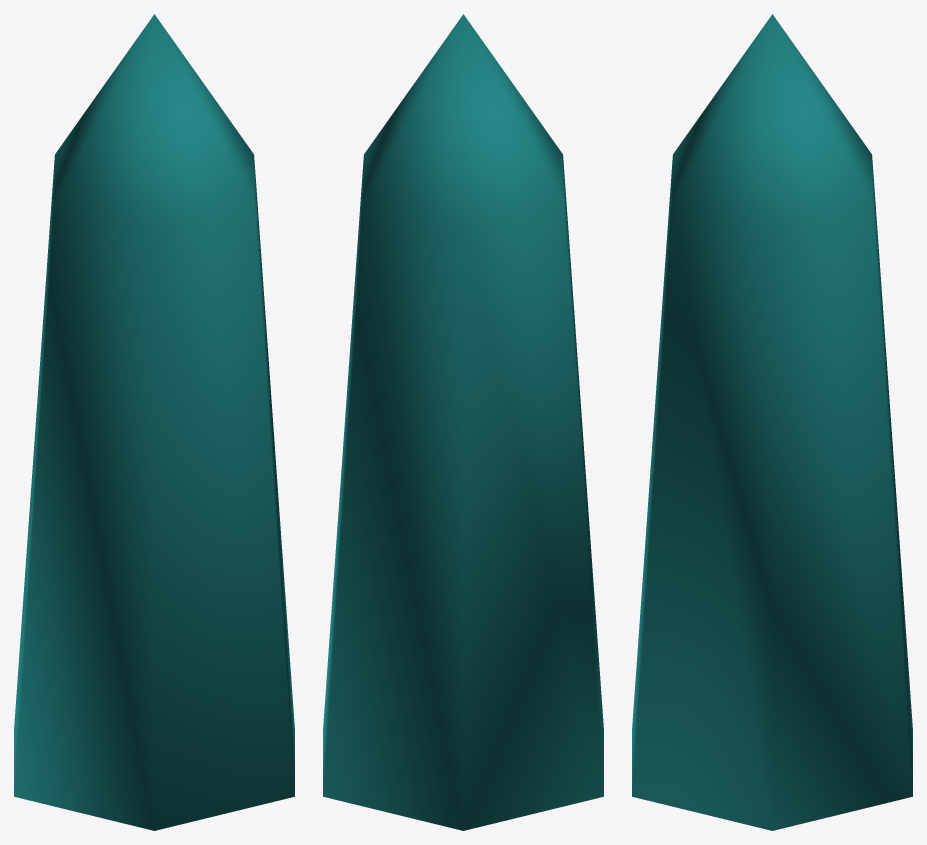
Rendered from chess_piece_king_collider.fbx.
3 views of the same model, side by side, from view 1: azimuth 30°, elevation 25°; view 2: azimuth 150°, elevation 25°; view 3: azimuth 270°, elevation 25° (orthographic).
Visible parts, largest first — view 1: chess_piece_king_collider; view 2: chess_piece_king_collider; view 3: chess_piece_king_collider.
Part boxes in pixels (left/top/right/bottom): chess_piece_king_collider: left=14, top=14, right=294, bottom=830; chess_piece_king_collider: left=323, top=14, right=603, bottom=830; chess_piece_king_collider: left=632, top=14, right=912, bottom=830.
Bounding box in the file's own units: 4.24 × 10.8 × 3.67.
